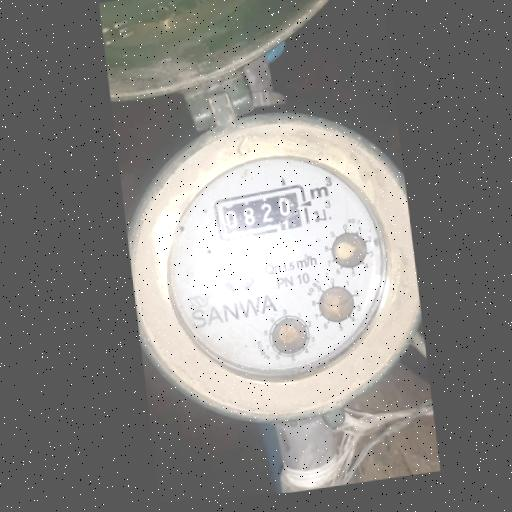0: (273, 191, 302, 232), (220, 203, 243, 236)
2: (253, 195, 279, 228)
8: (238, 199, 259, 231)
border_water_meter_number: (211, 184, 310, 243)
